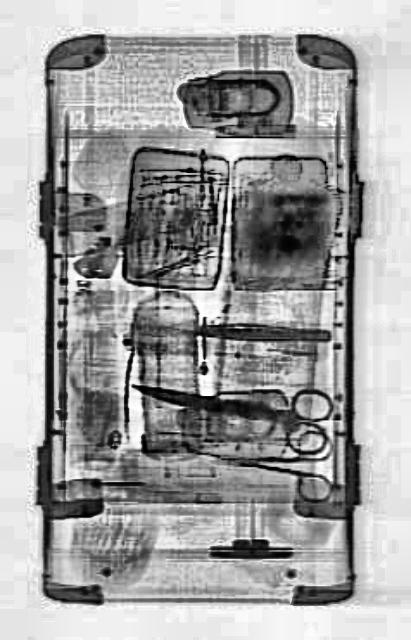Scissors: (125, 348, 332, 458), (223, 423, 331, 501)
